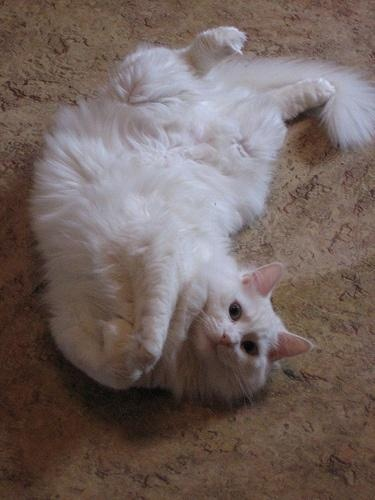cat: (34, 25, 337, 404)
